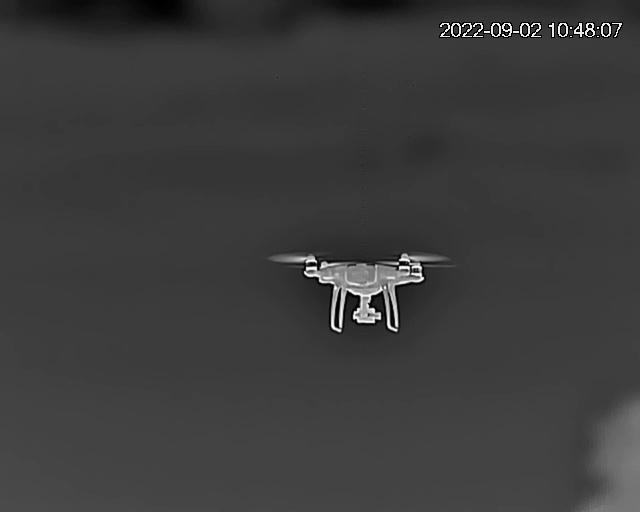DJI-Phantom: (267, 247, 455, 336)
